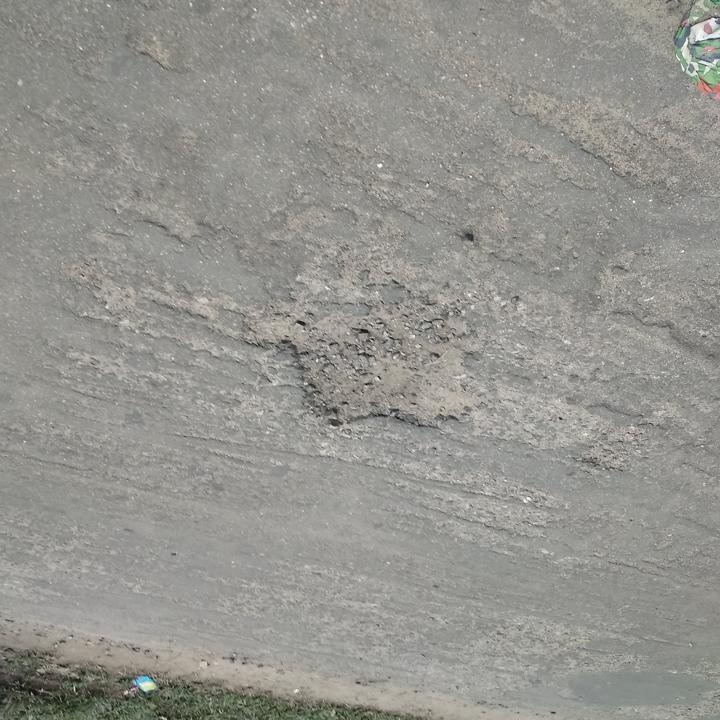pothole: (248, 299, 488, 438)
